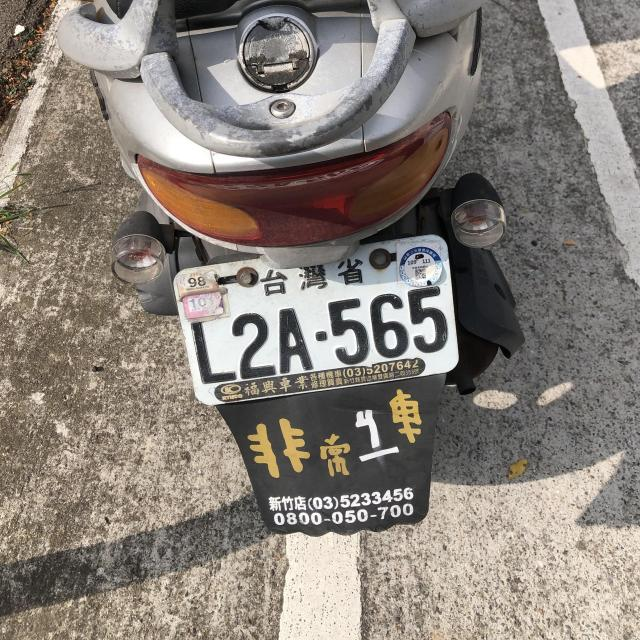W: (167, 229, 460, 410)
